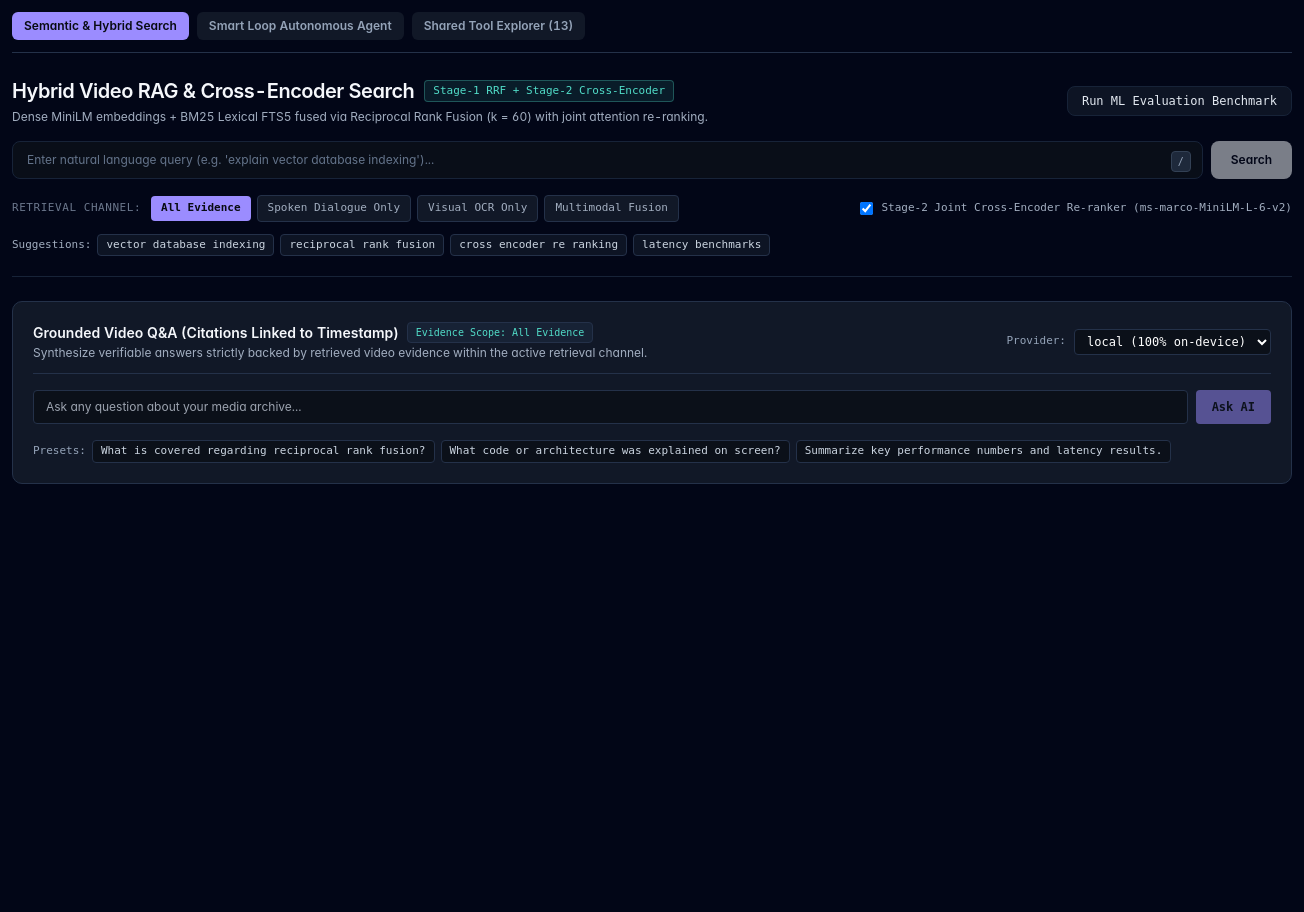
Test: HybridSearchView › runs ML evaluation benchmark and displays comparison metrics table
Click the button "Run ML Evaluation Benchmark" at (1179, 101), box x1=1067 y1=86 x2=1292 y2=116
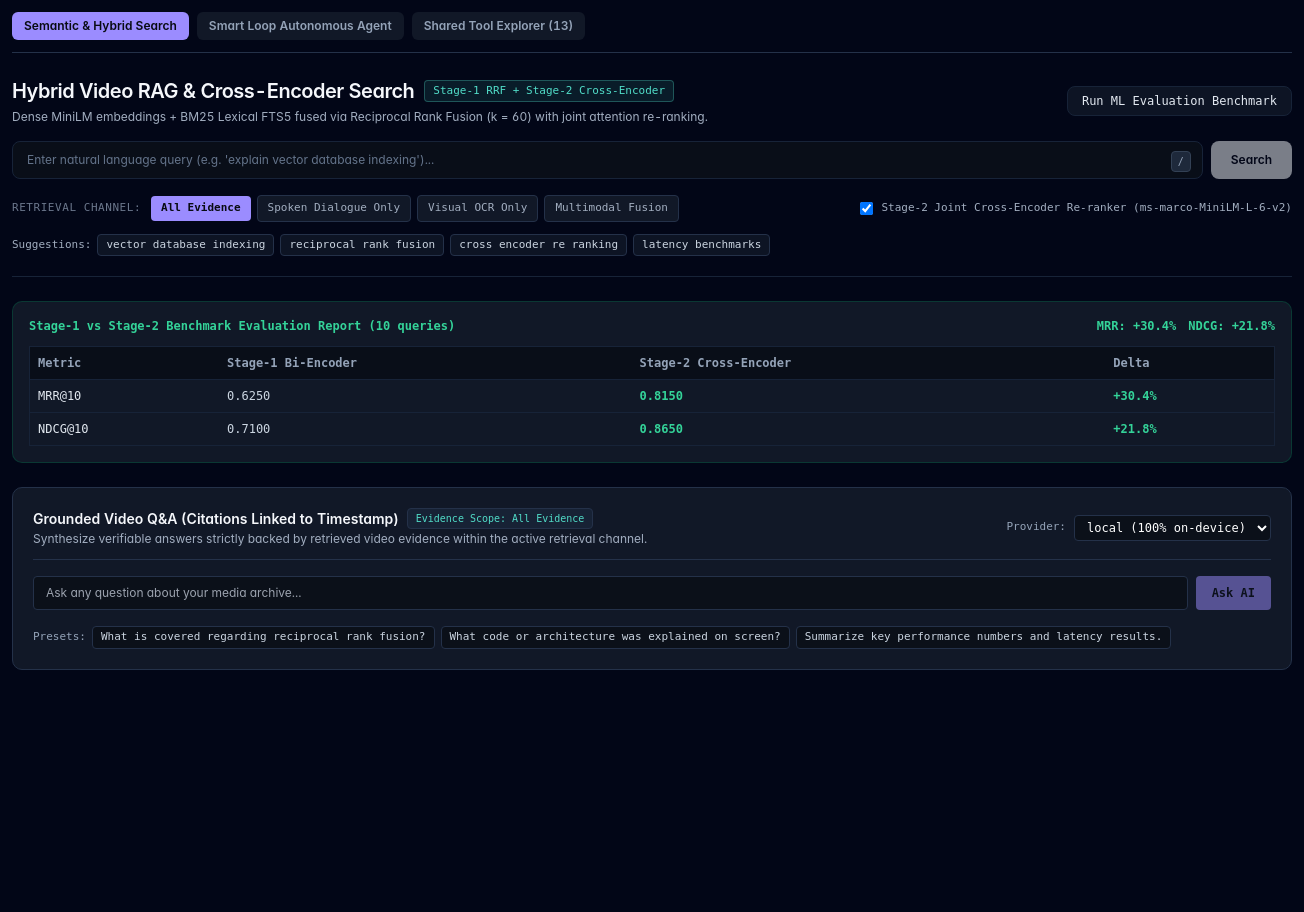
Expected: the element with test id "eval-benchmark-report" is shown, x1=12 y1=301 x2=1292 y2=463
Expected: the text "MRR: +30.4%" is shown, x1=1097 y1=318 x2=1176 y2=334
Expected: the text "NDCG: +21.8%" is shown, x1=1188 y1=318 x2=1275 y2=334
